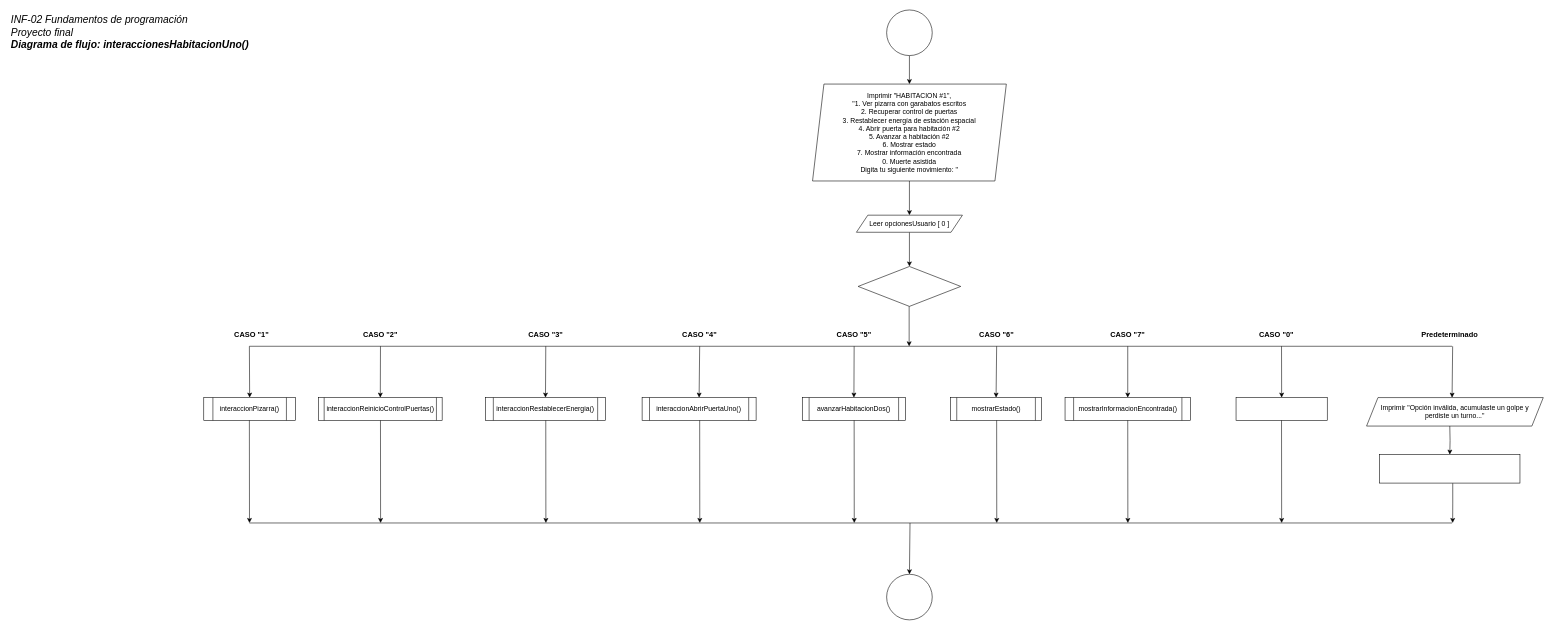
The diagram is 1553 pixels wide and 630 high, and some of its shapes have lost their labels. The box of each missing label's shape, as (x1, y1, x2, y2) in pixels:
cantidadGolpes = cantidadGolpes + 1 cantidadTurnos = cantidadTurnos - 1: (1379, 454, 1520, 483)
Fin: (886, 574, 932, 620)
Inicio: (886, 9, 932, 56)
juegoActivo = false: (1235, 397, 1327, 420)
opcionesUsuario [ 0 ]: (858, 266, 961, 306)
